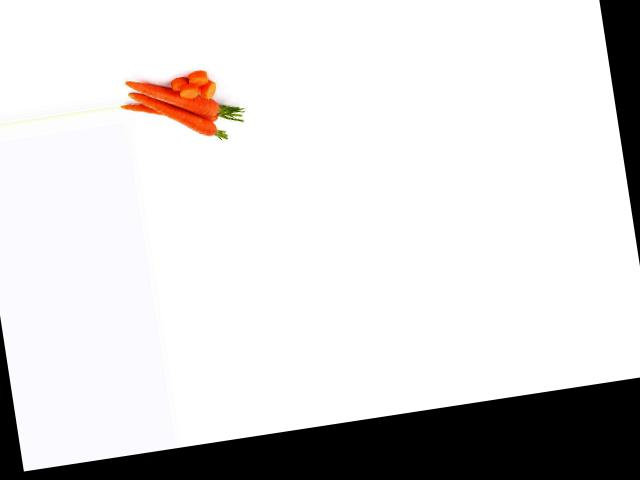carrot: (123, 66, 228, 130)
